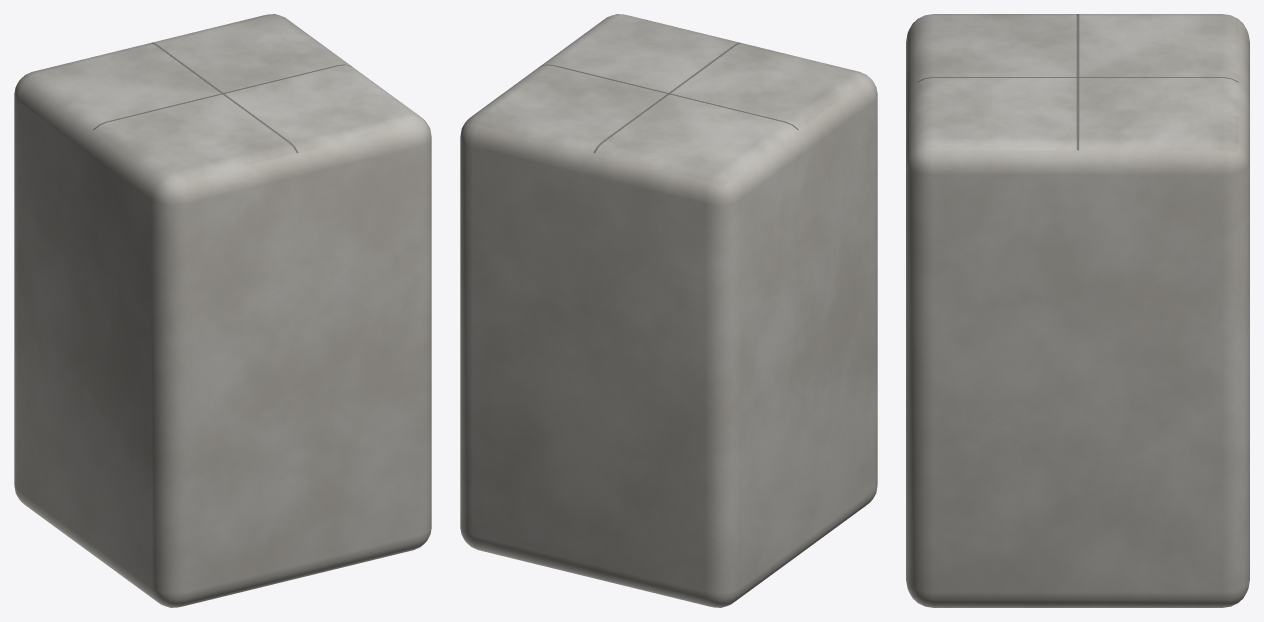
Rendered from SM_Tile_Grey.fbx.
3 views of the same model, side by side, from view 1: azimuth 30°, elevation 25°; view 2: azimuth 150°, elevation 25°; view 3: azimuth 270°, elevation 25° (orthographic). The views are drawn at different scales.
Parts seen in each view (by area): view 1: SM_Tile_Grey; view 2: SM_Tile_Grey; view 3: SM_Tile_Grey.
Part boxes in pixels (x1=…): SM_Tile_Grey: x1=14, y1=14, x2=431, y2=607; SM_Tile_Grey: x1=460, y1=14, x2=877, y2=607; SM_Tile_Grey: x1=906, y1=14, x2=1249, y2=607.
Size of the model in its own units: 2 by 3 by 2.
